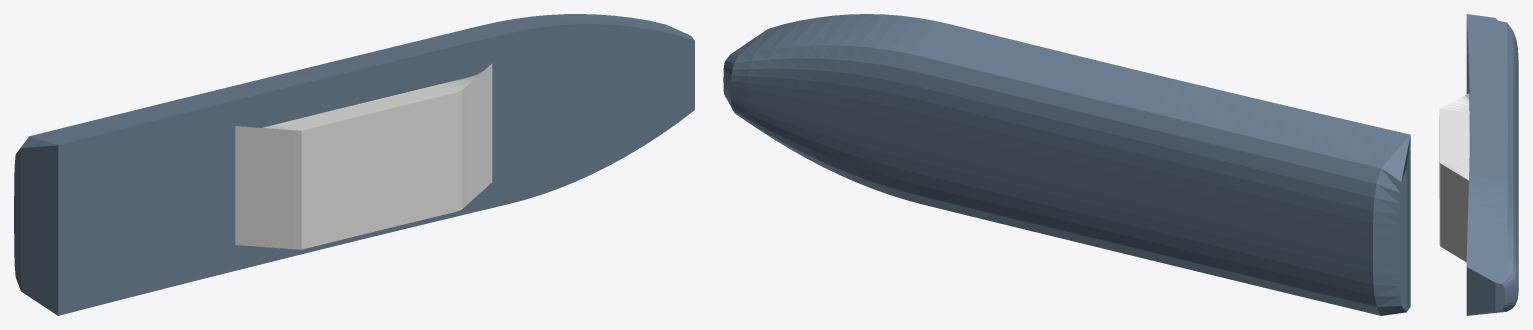
The model's file is barge-loft-highside.glb.
The picture shows the model from 3 angles, left to right: view 1: azimuth 30°, elevation 25°; view 2: azimuth 150°, elevation 25°; view 3: azimuth 270°, elevation 25°; orthographic projection. The views are drawn at different scales.
Visible parts, largest first — view 1: barge-loft-highside; view 2: barge-loft-highside; view 3: barge-loft-highside.
Part boxes in pixels (x1,y1,x2,y2): barge-loft-highside: (14,14,694,315); barge-loft-highside: (723,14,1410,315); barge-loft-highside: (1439,14,1518,315).
Size of the model in its own units: 1.89 by 0.46 by 0.2767.
